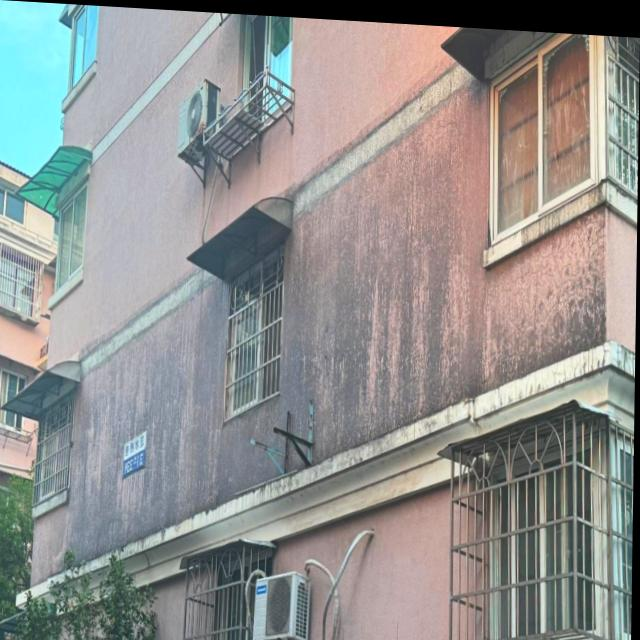mildew: (59, 88, 607, 563)
